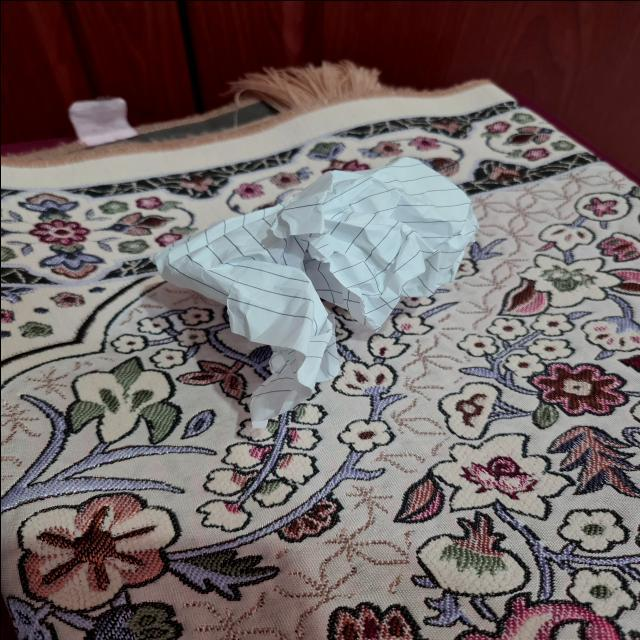Paper: (161, 159, 481, 434)
